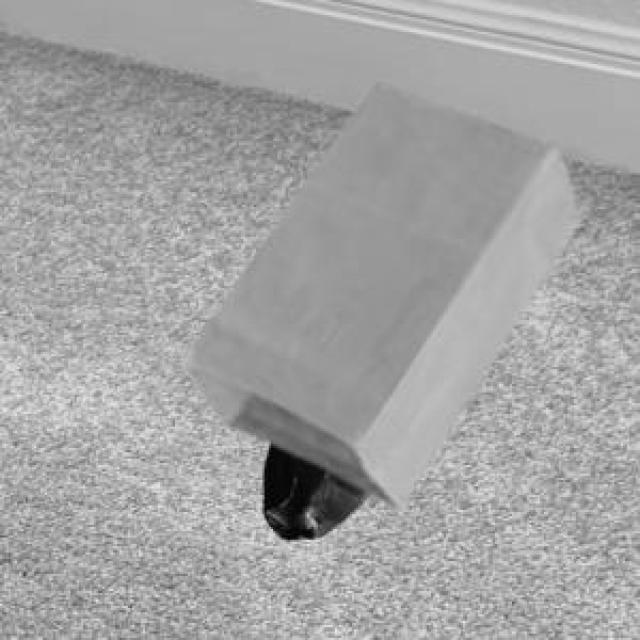miscellaneous trash: (260, 437, 367, 536)
paper: (179, 79, 574, 504)
